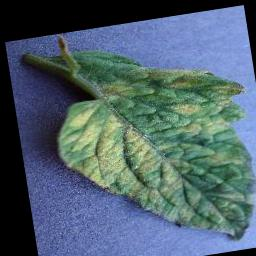Leaf_Mold: (47, 43, 256, 256)
